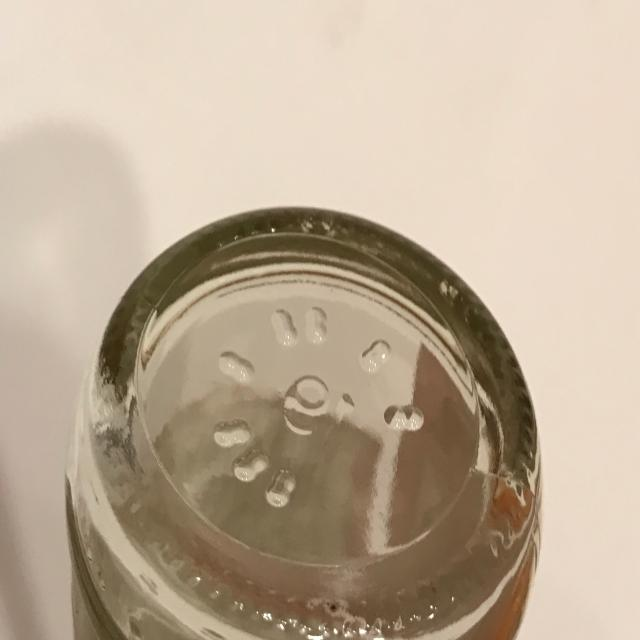glass: (64, 204, 543, 640)
